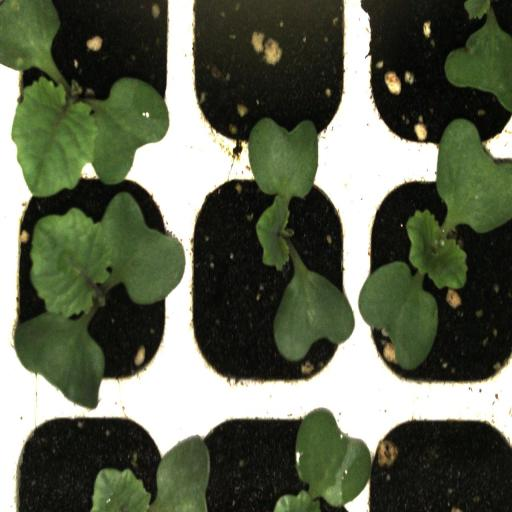Folha: (273, 409, 372, 512), (90, 437, 210, 512), (444, 0, 512, 113)
Germinacao: (3, 160, 183, 402), (186, 157, 356, 394), (357, 156, 512, 396), (0, 0, 182, 153)
